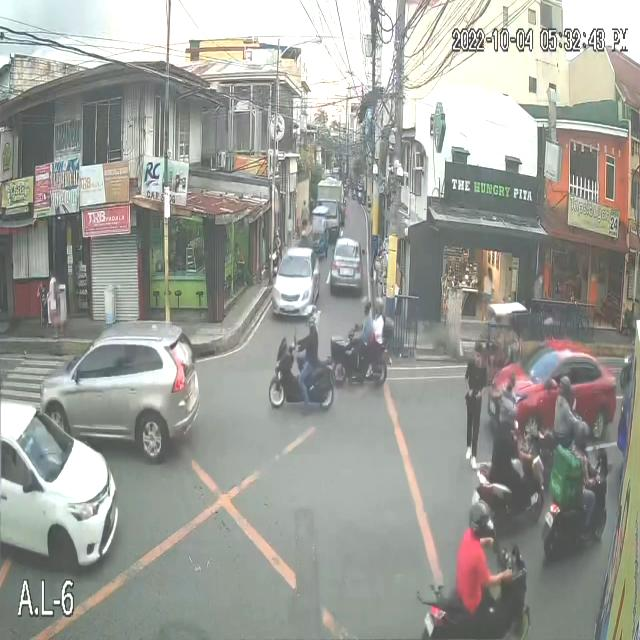Full-Faced: (496, 396, 521, 429), (468, 498, 492, 532), (573, 422, 589, 456), (302, 304, 318, 333), (359, 293, 372, 319), (558, 378, 573, 400), (376, 294, 386, 316)
